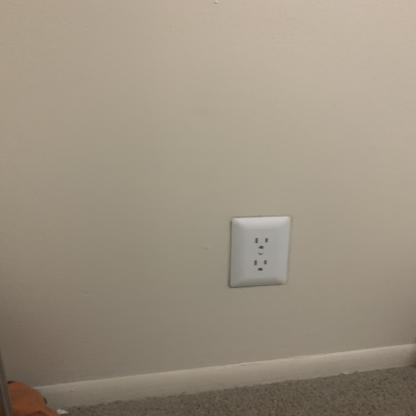OUTLET: (230, 216, 288, 284)
